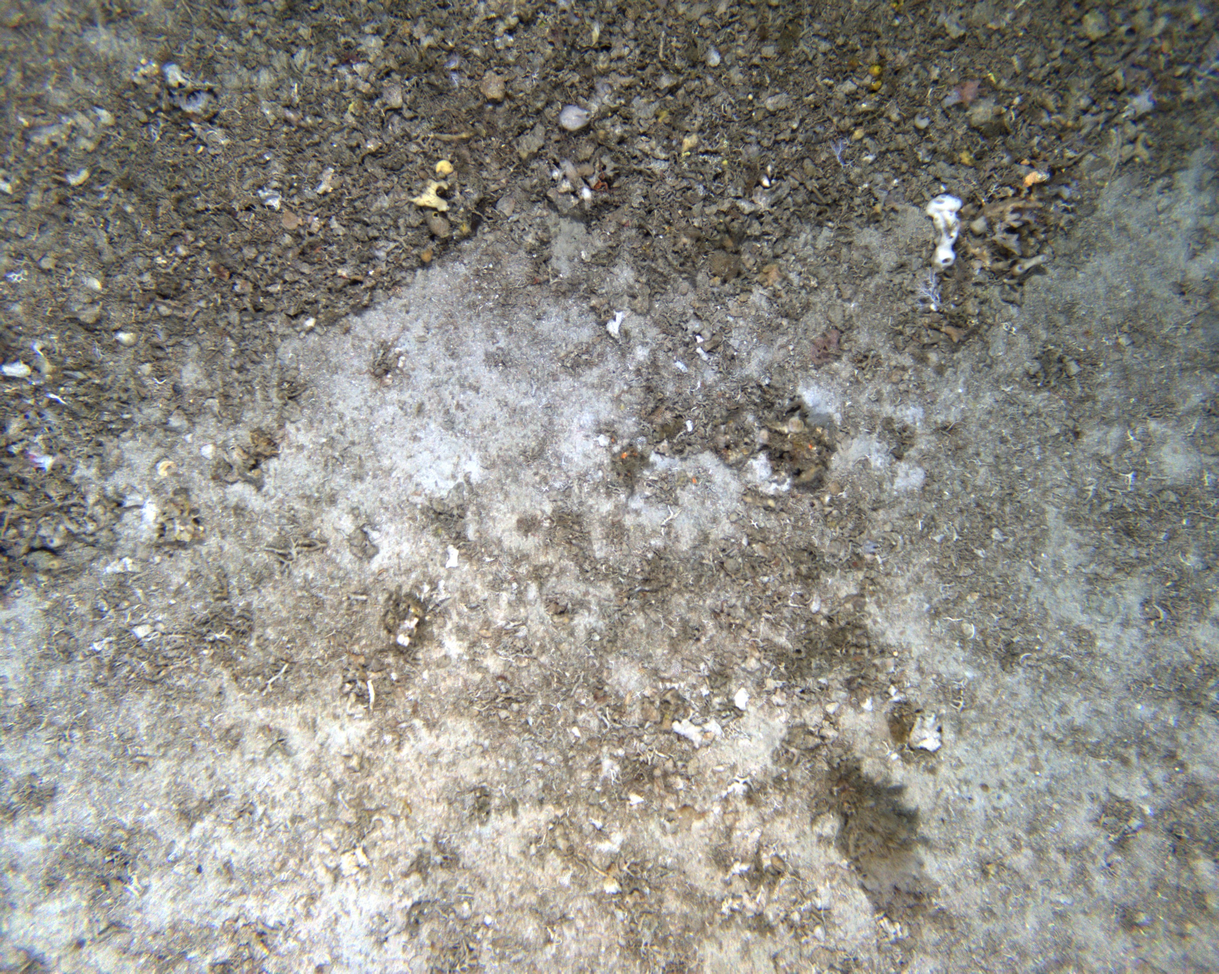Brachionichthyidae: (280, 106, 338, 147)
